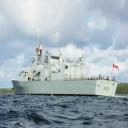Fragata: (11, 25, 121, 99)
